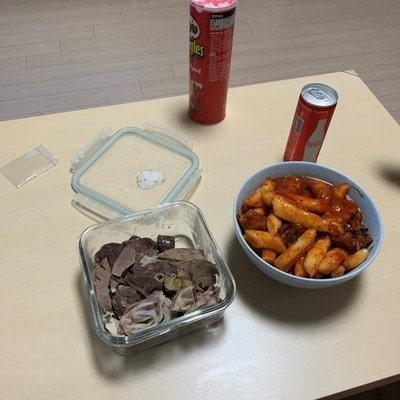Bottle: (189, 0, 237, 124), (283, 83, 337, 161)
Lunch Box: (71, 124, 234, 353), (233, 161, 382, 288)
